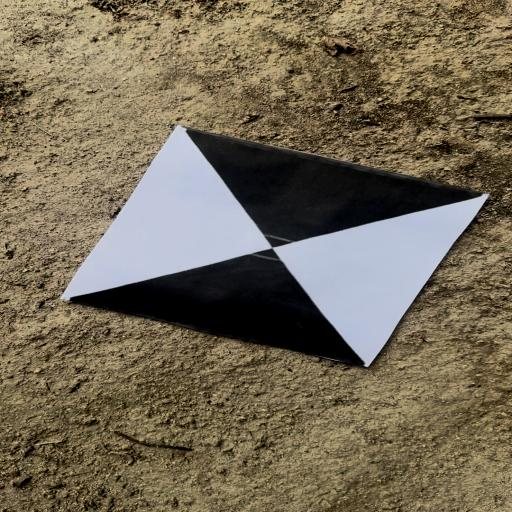target: (62, 126, 491, 369)
